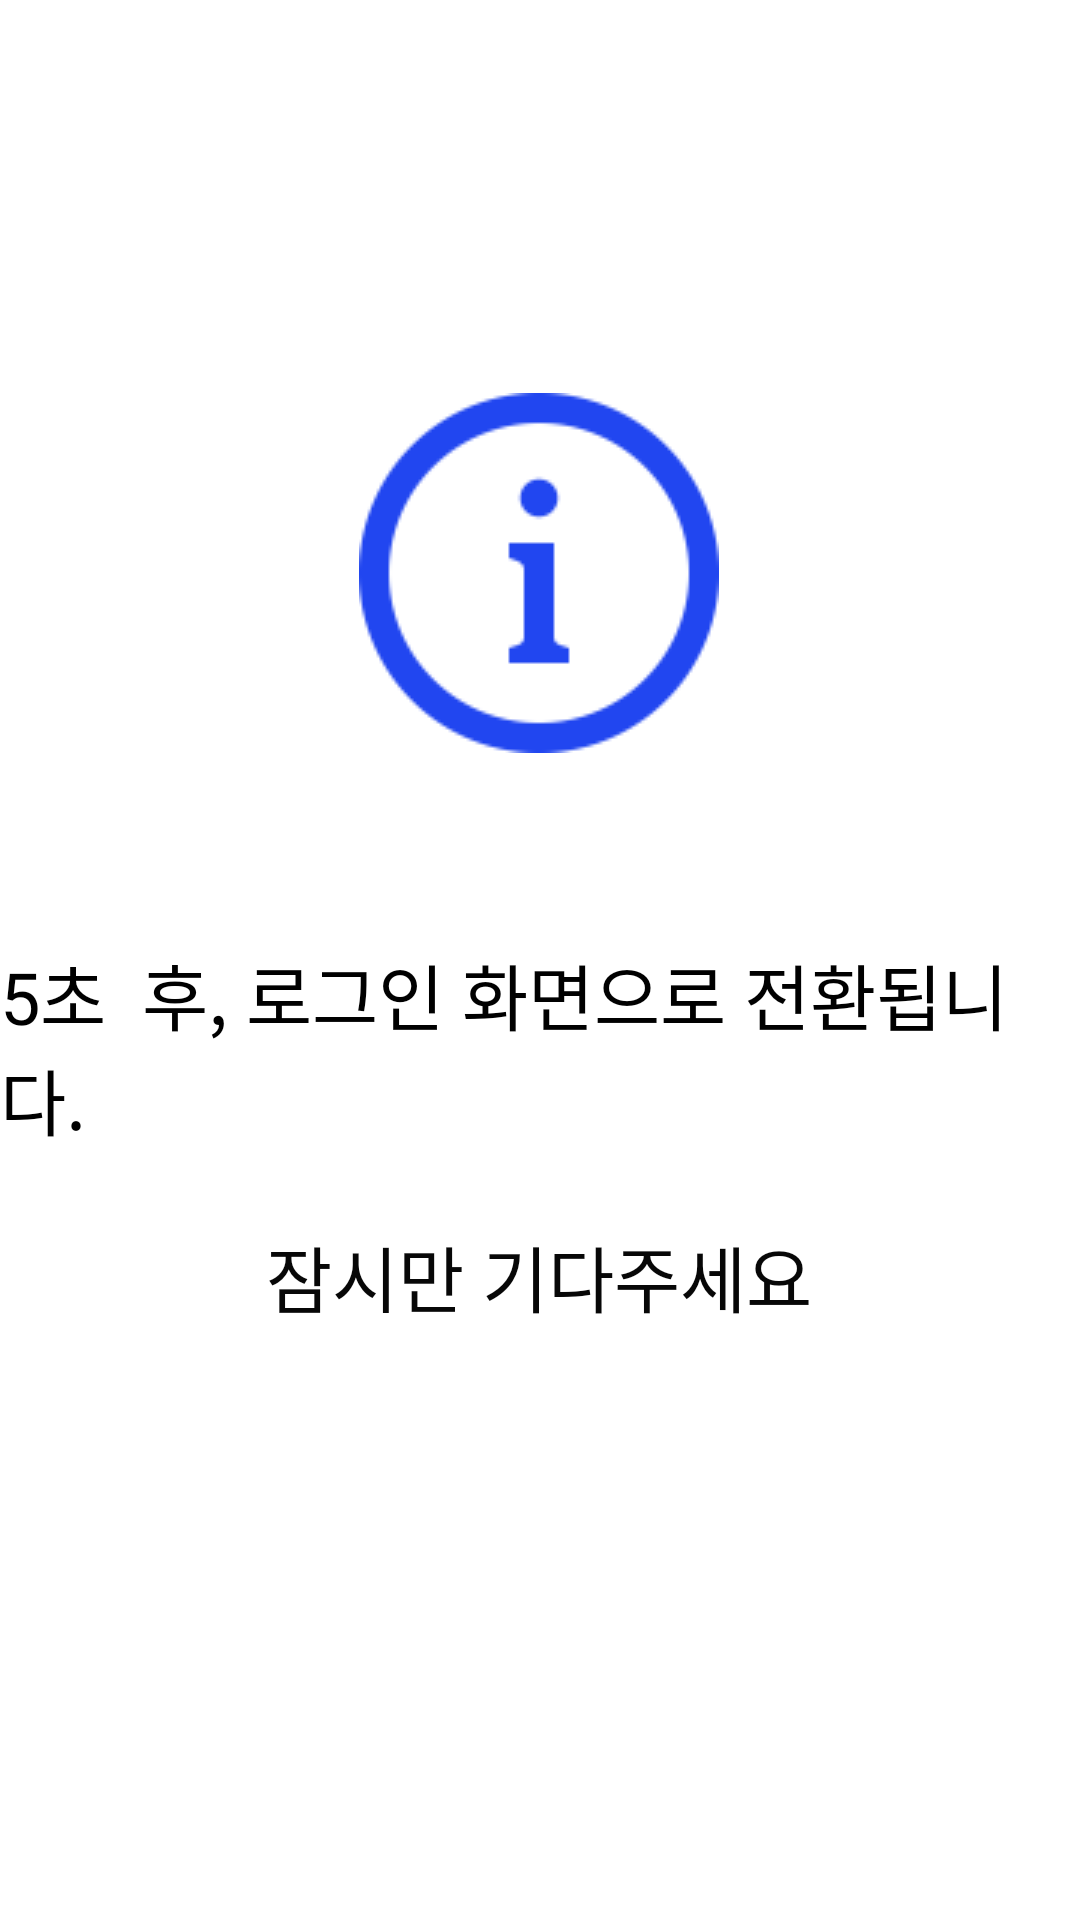

Screen size 1080px×1920px. Icon name, then its center in pixels as (x=x, y=y):
info: (x=539, y=573)
